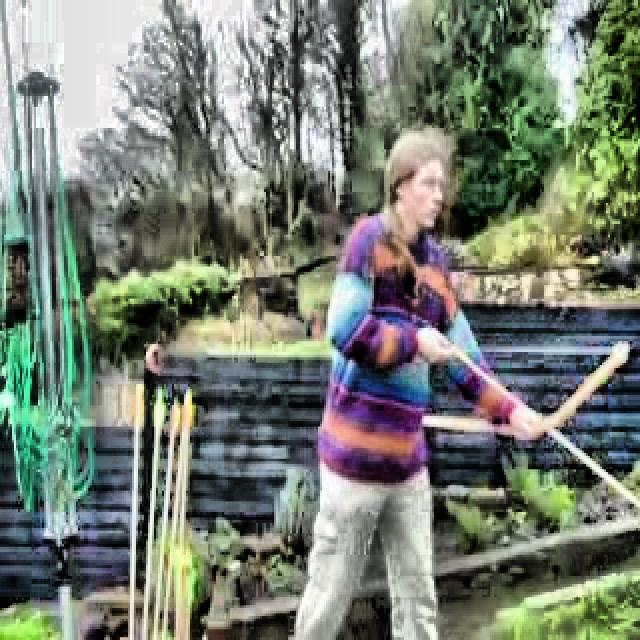I: (294, 121, 557, 640)
